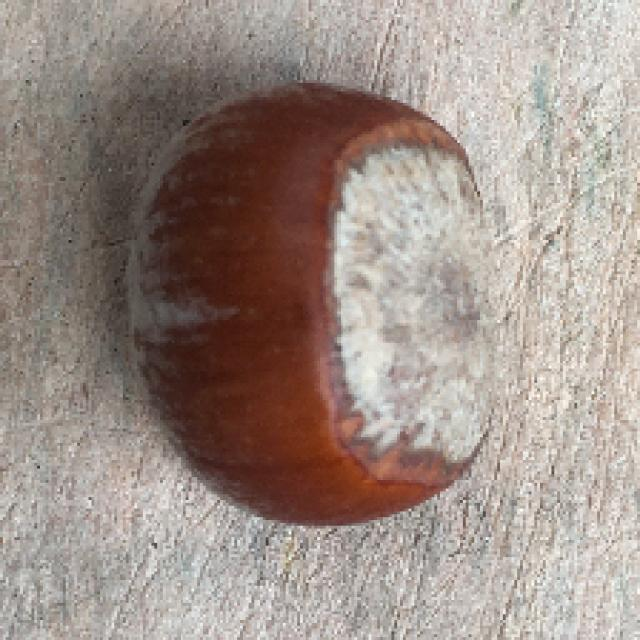qualityHazelnut: (119, 82, 502, 531)
